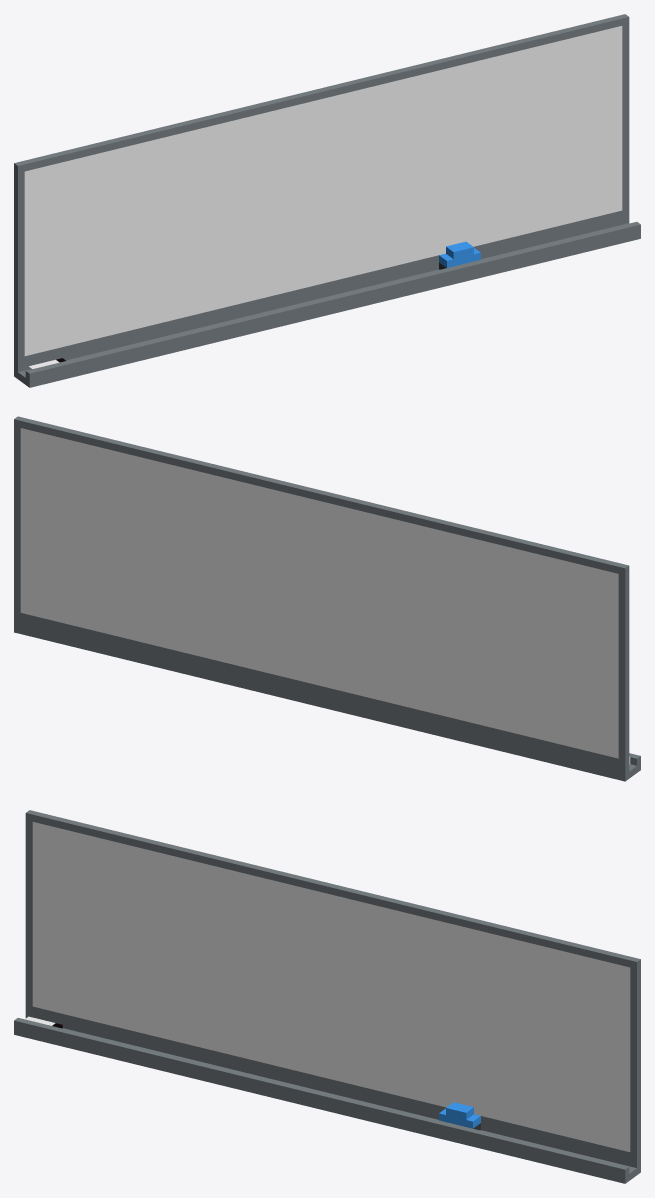
Rendered from white_board.obj.
3 views of the same model, one above another, from view 1: azimuth 30°, elevation 25°; view 2: azimuth 150°, elevation 25°; view 3: azimuth 330°, elevation 25° (orthographic).
Size of the model in its own units: 9 by 3 by 0.4.
1 material, 1 textured.
